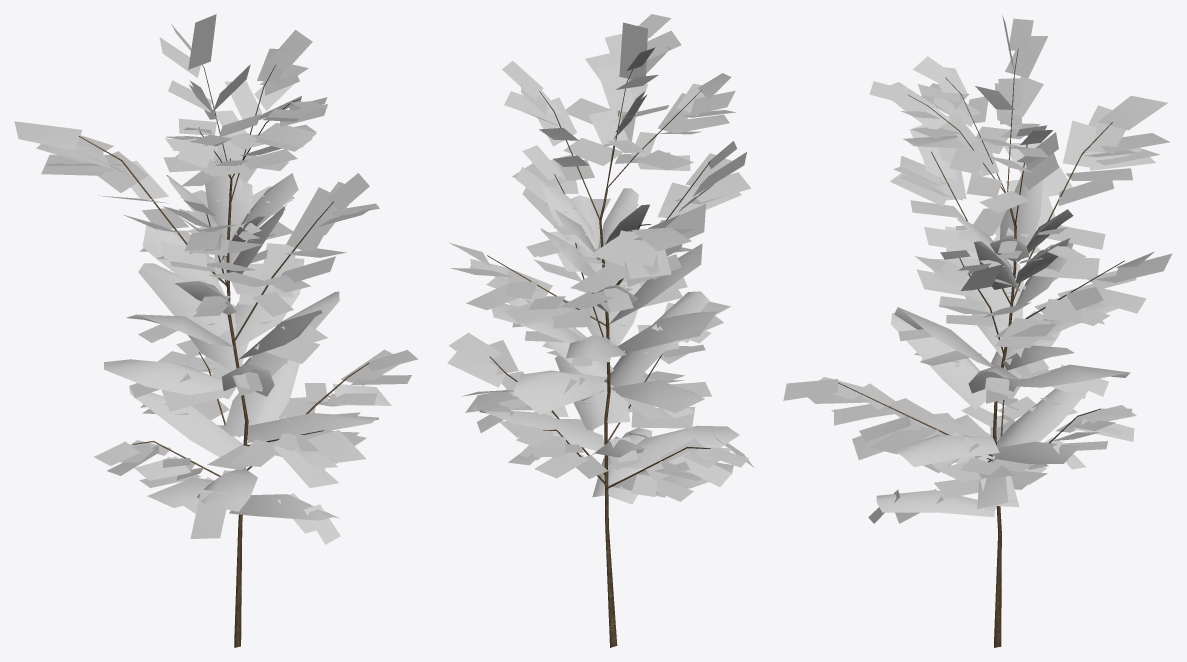
File: Tree_Small1_LOD3.fbx
3 views of the same model, side by side, from view 1: azimuth 30°, elevation 25°; view 2: azimuth 150°, elevation 25°; view 3: azimuth 270°, elevation 25° (orthographic). The views are drawn at different scales.
Parts seen in each view (by area): view 1: polySurface12; view 2: polySurface12; view 3: polySurface12.
Boxes of the visible parts, x1=… form: polySurface12: x1=14, y1=14, x2=417, y2=647; polySurface12: x1=447, y1=14, x2=753, y2=647; polySurface12: x1=783, y1=15, x2=1172, y2=647.
Size of the model in its own units: 241 by 461 by 264.
